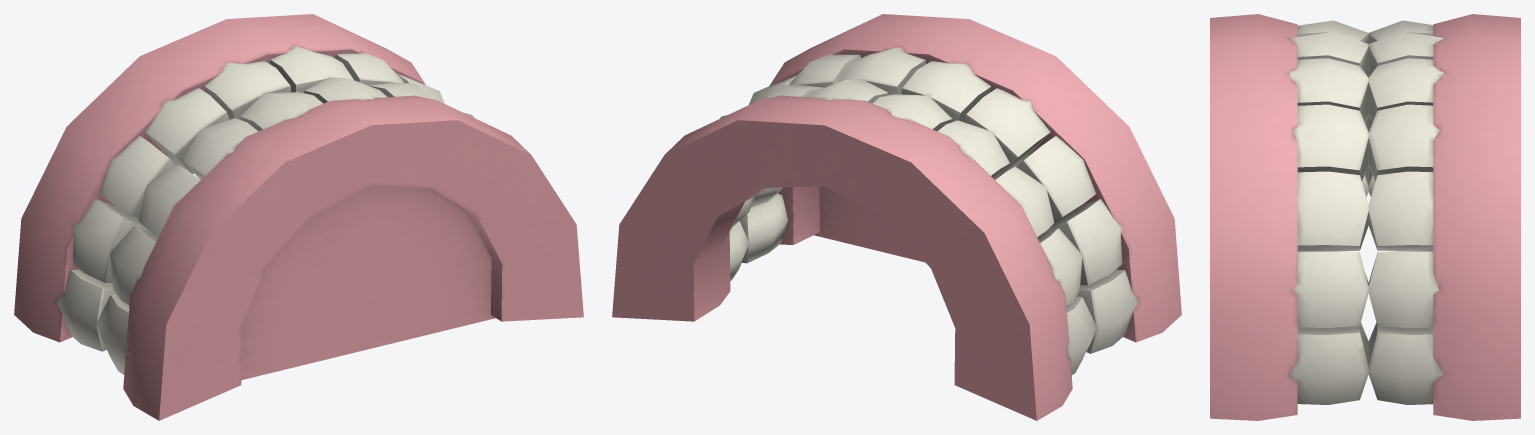
Rendered from dentures.glb.
3 views of the same model, side by side, from view 1: azimuth 30°, elevation 25°; view 2: azimuth 150°, elevation 25°; view 3: azimuth 270°, elevation 25° (orthographic). The views are drawn at different scales.
Parts seen in each view (by area): view 1: x7_dentures; view 2: x7_dentures; view 3: x7_dentures.
Boxes of the visible parts, x1=… form: x7_dentures: x1=14, y1=14, x2=583, y2=420; x7_dentures: x1=612, y1=14, x2=1181, y2=420; x7_dentures: x1=1210, y1=14, x2=1520, y2=420.
Size of the model in its own units: 0.0435 by 0.0239 by 0.0254.
Materials: 1 (1 with a texture image).
